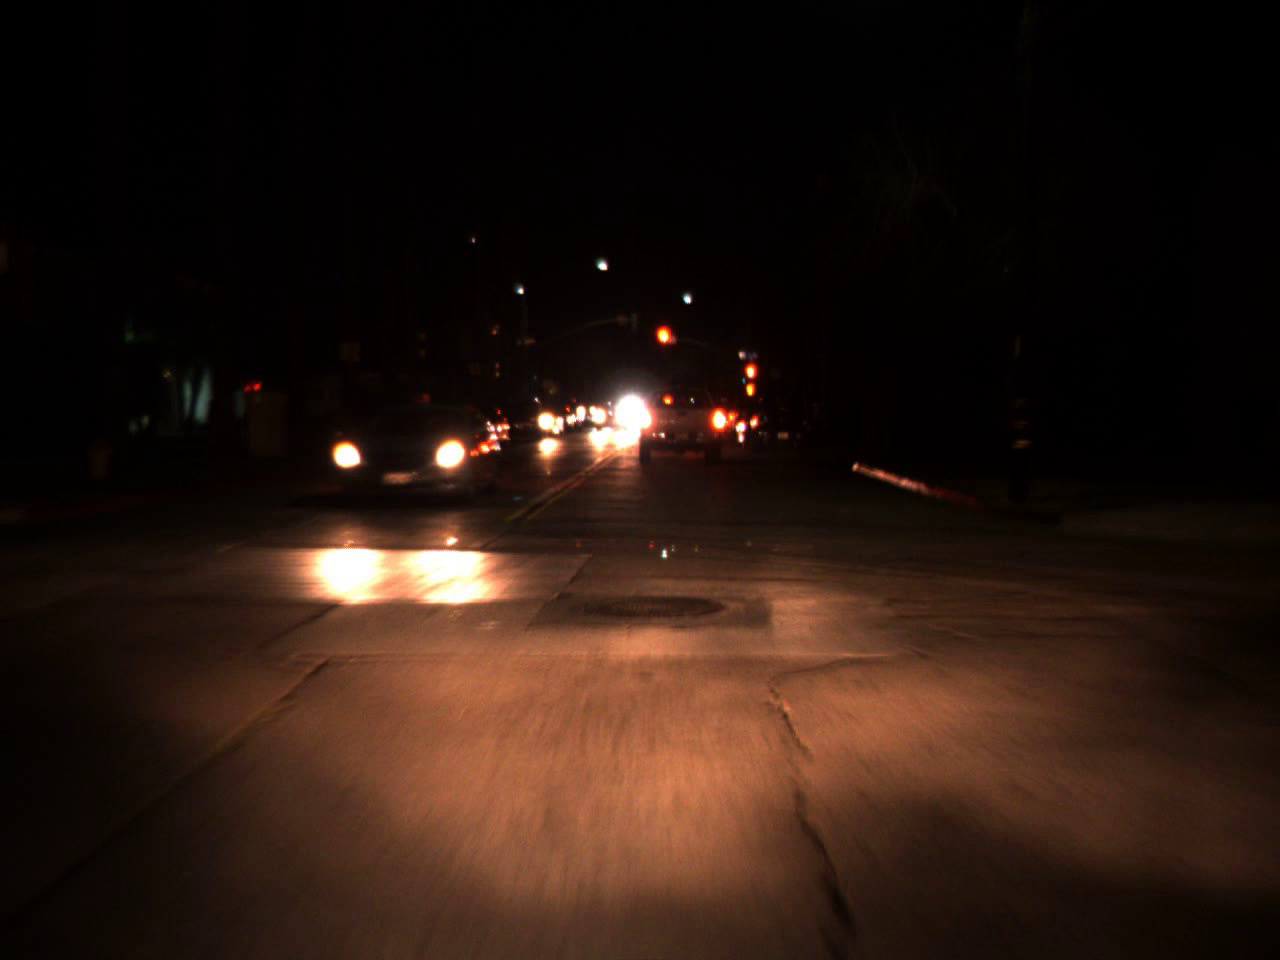stop: (653, 322, 675, 367), (745, 363, 757, 400)
